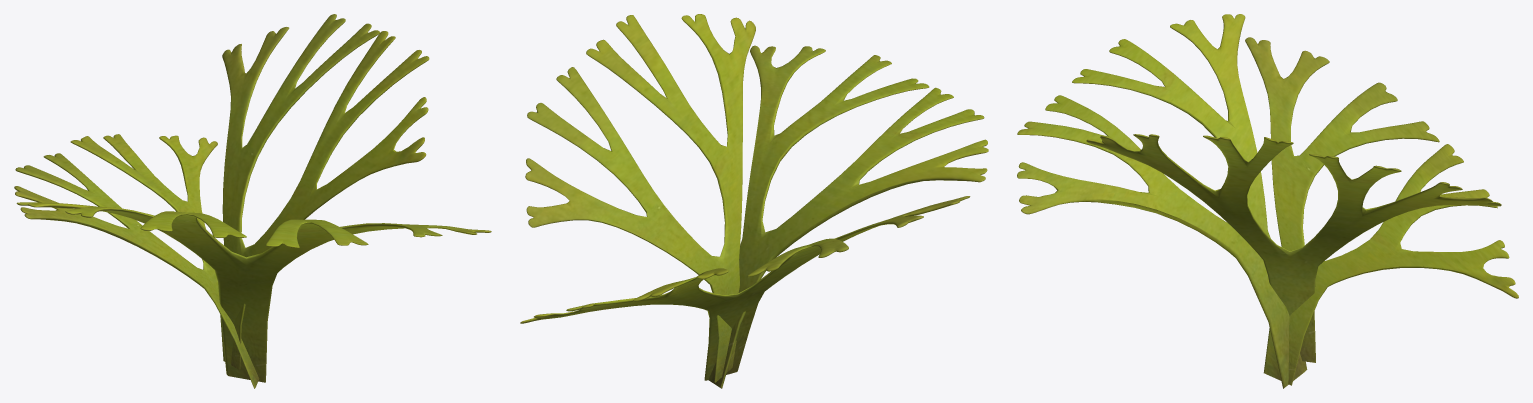
File: Dictyota_1.FBX
3 views of the same model, side by side, from view 1: azimuth 30°, elevation 25°; view 2: azimuth 150°, elevation 25°; view 3: azimuth 270°, elevation 25° (orthographic). The views are drawn at different scales.
Visible parts, largest first — view 1: Box005; view 2: Box005; view 3: Box005.
Boxes of the visible parts, x1,y1,x2,y2 form: Box005: (14, 14, 491, 388); Box005: (520, 14, 988, 388); Box005: (1017, 14, 1518, 388).
Size of the model in its own units: 79.6 by 61.45 by 90.2.
